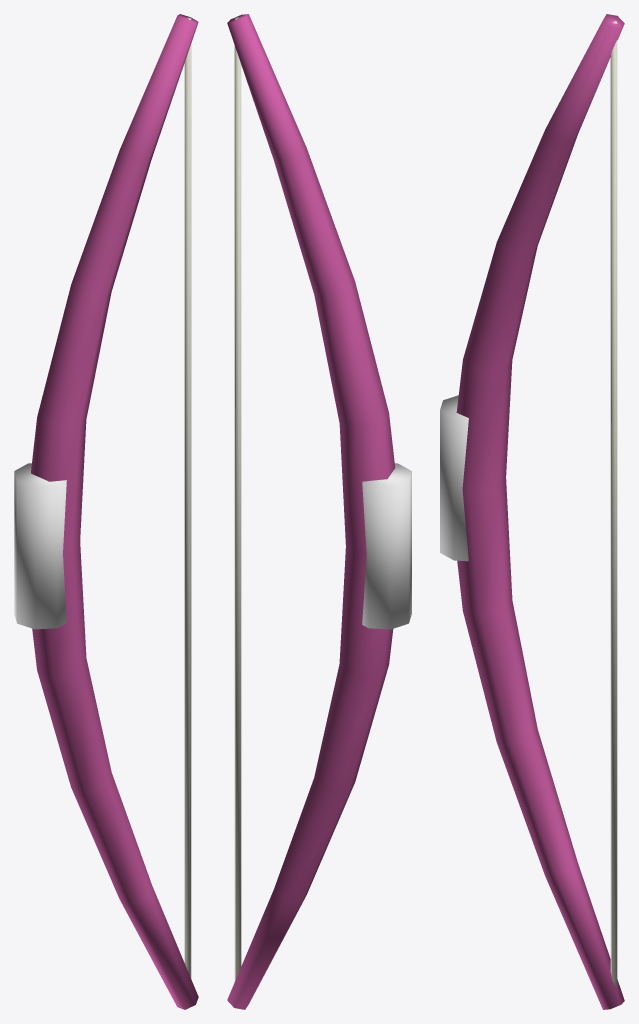
File: orchidite_bow.glb
3 views of the same model, side by side, from view 1: azimuth 30°, elevation 25°; view 2: azimuth 150°, elevation 25°; view 3: azimuth 330°, elevation 25° (orthographic).
Parts seen in each view (by area): view 1: orchidite_bow_v0; view 2: orchidite_bow_v0; view 3: orchidite_bow_v0.
Part boxes in pixels (x1,y1,x2,y2): orchidite_bow_v0: (14,14,198,1009); orchidite_bow_v0: (227,14,411,1009); orchidite_bow_v0: (440,14,624,1009).
Bounding box in the file's own units: 0.2105 × 1.11 × 0.06.
